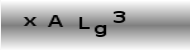3: (112, 10, 126, 24)
A: (46, 14, 63, 28)
L: (77, 16, 90, 30)
g: (93, 24, 108, 37)
x: (23, 16, 38, 27)
